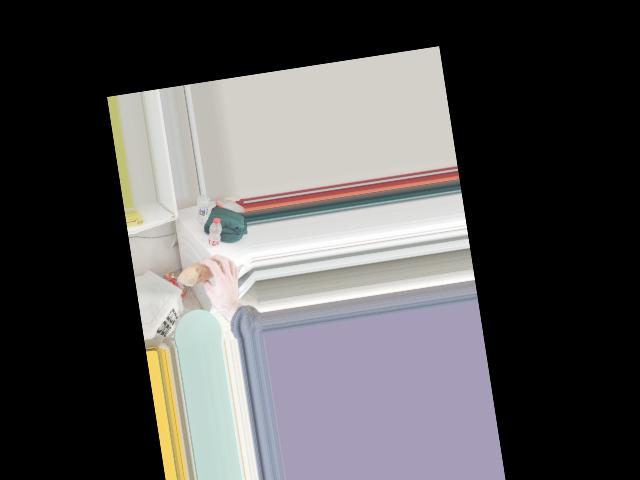sweet_potato: (177, 258, 227, 287)
